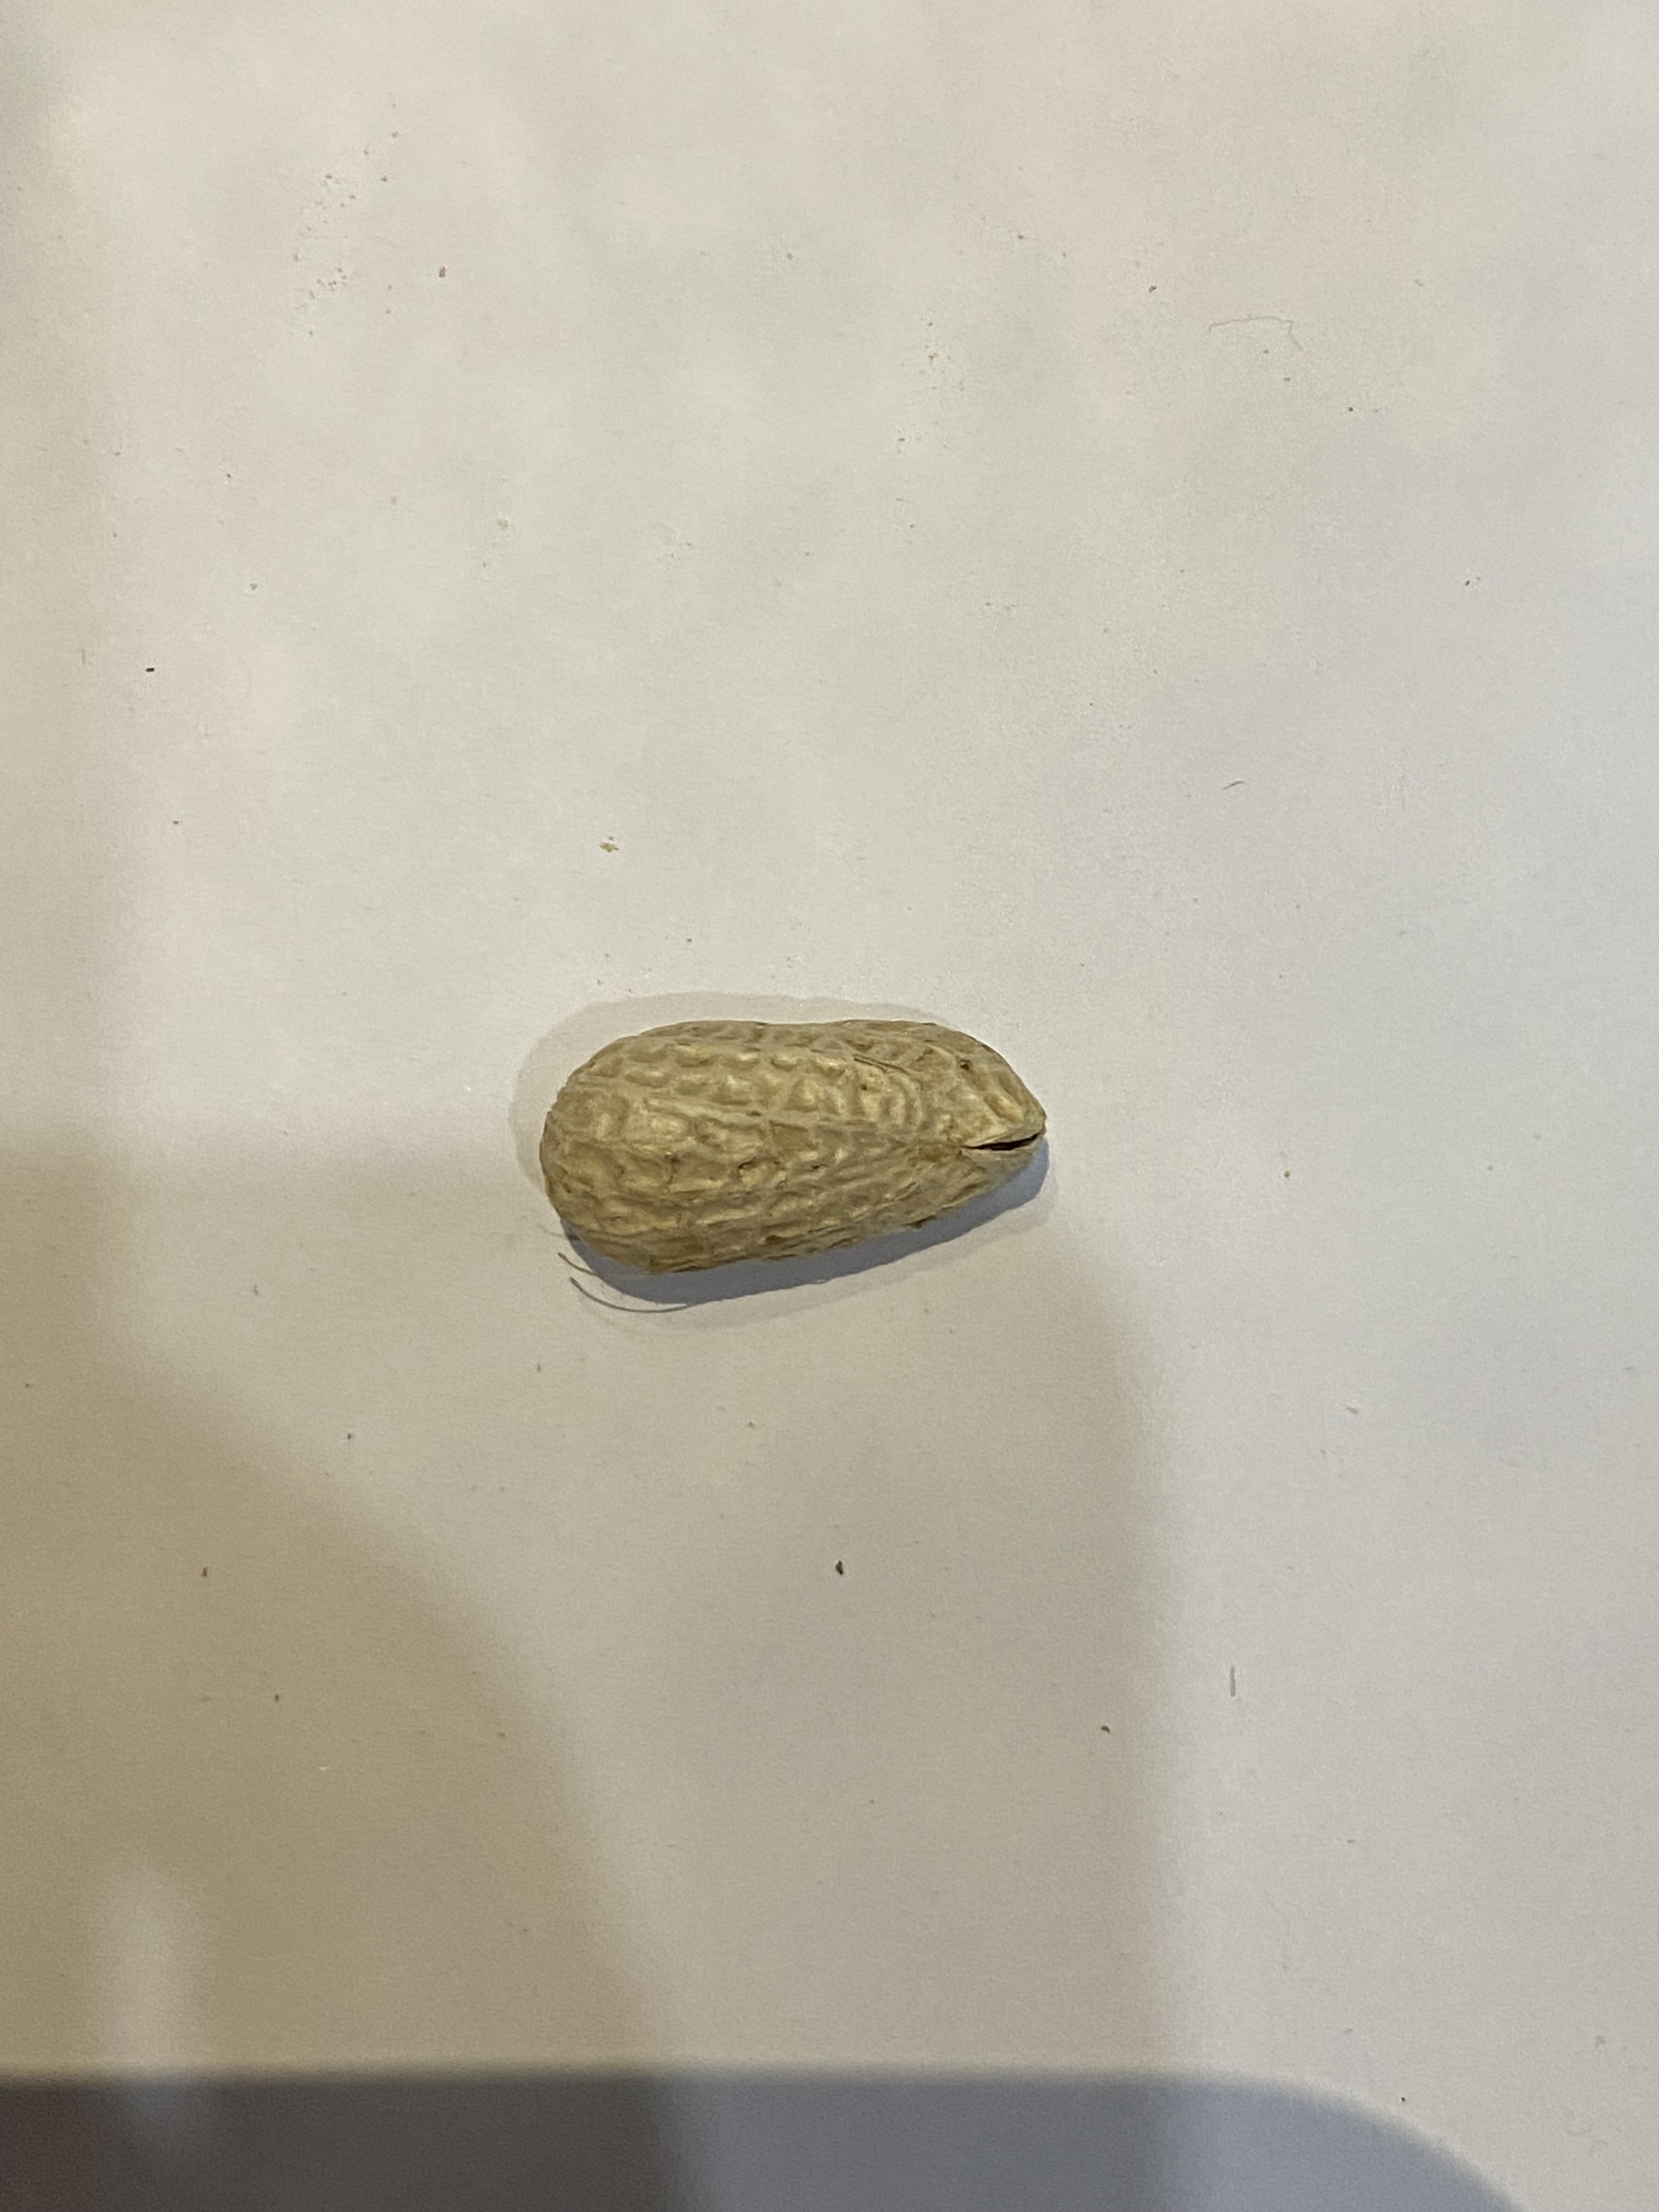kacang1: (533, 1012, 1075, 1280)
